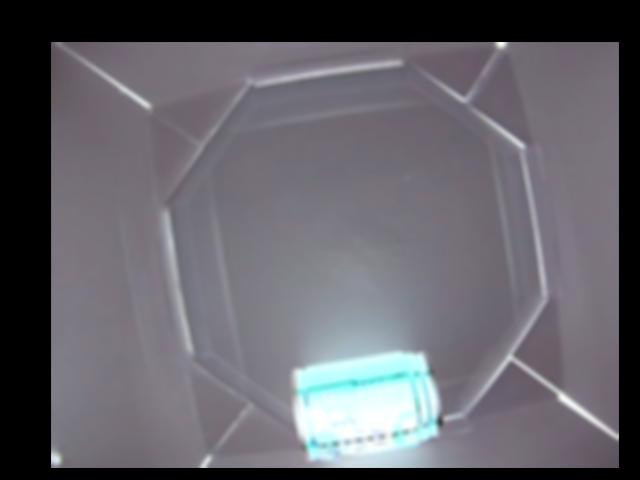Bottle: (292, 350, 445, 463)
